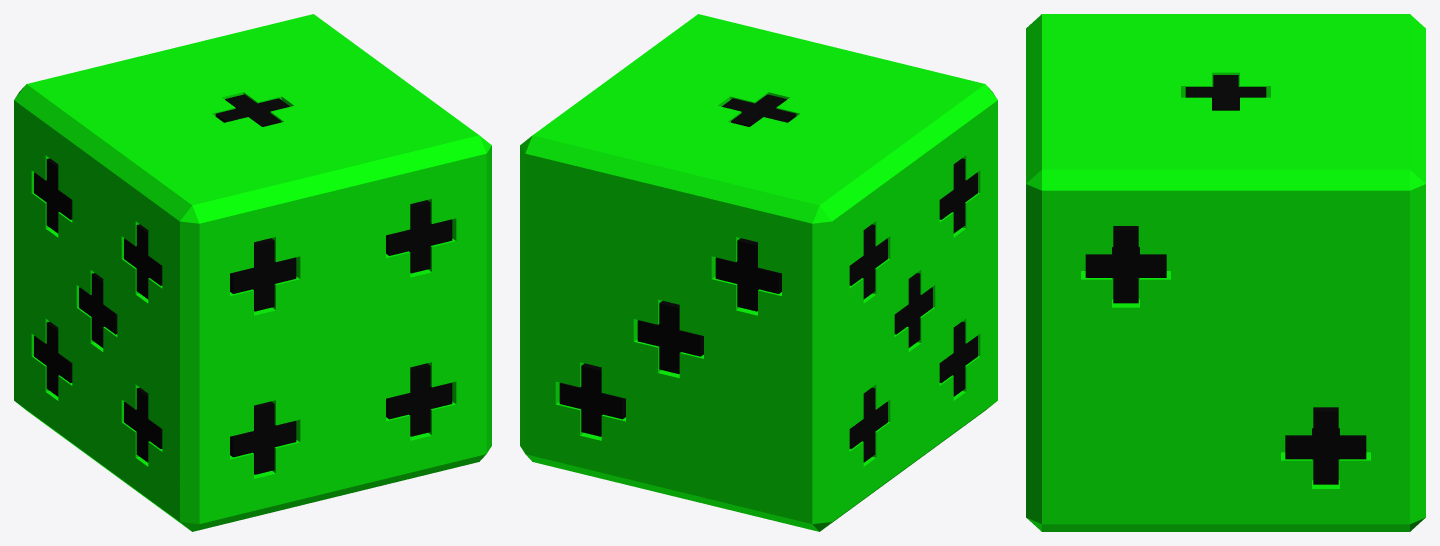
The model's file is 1_plus_dice_green.gltf.
The picture shows the model from 3 angles, left to right: view 1: azimuth 30°, elevation 25°; view 2: azimuth 150°, elevation 25°; view 3: azimuth 270°, elevation 25°; orthographic projection. The views are drawn at different scales.
Parts seen in each view (by area): view 1: D6_Dice_Green; view 2: D6_Dice_Green; view 3: D6_Dice_Green.
Boxes of the visible parts, x1,y1,x2,y2 form: D6_Dice_Green: [14, 14, 491, 531]; D6_Dice_Green: [520, 14, 997, 531]; D6_Dice_Green: [1026, 14, 1425, 531].
Size of the model in its own units: 2 by 2 by 2.
